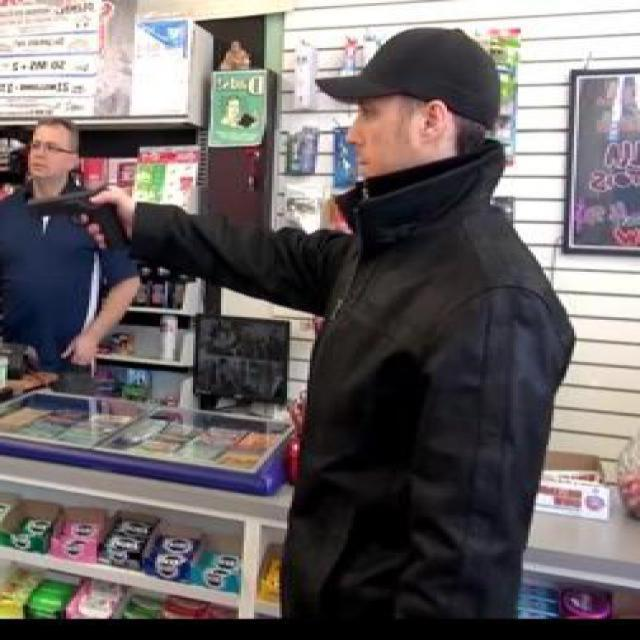weapon: (24, 184, 134, 256)
